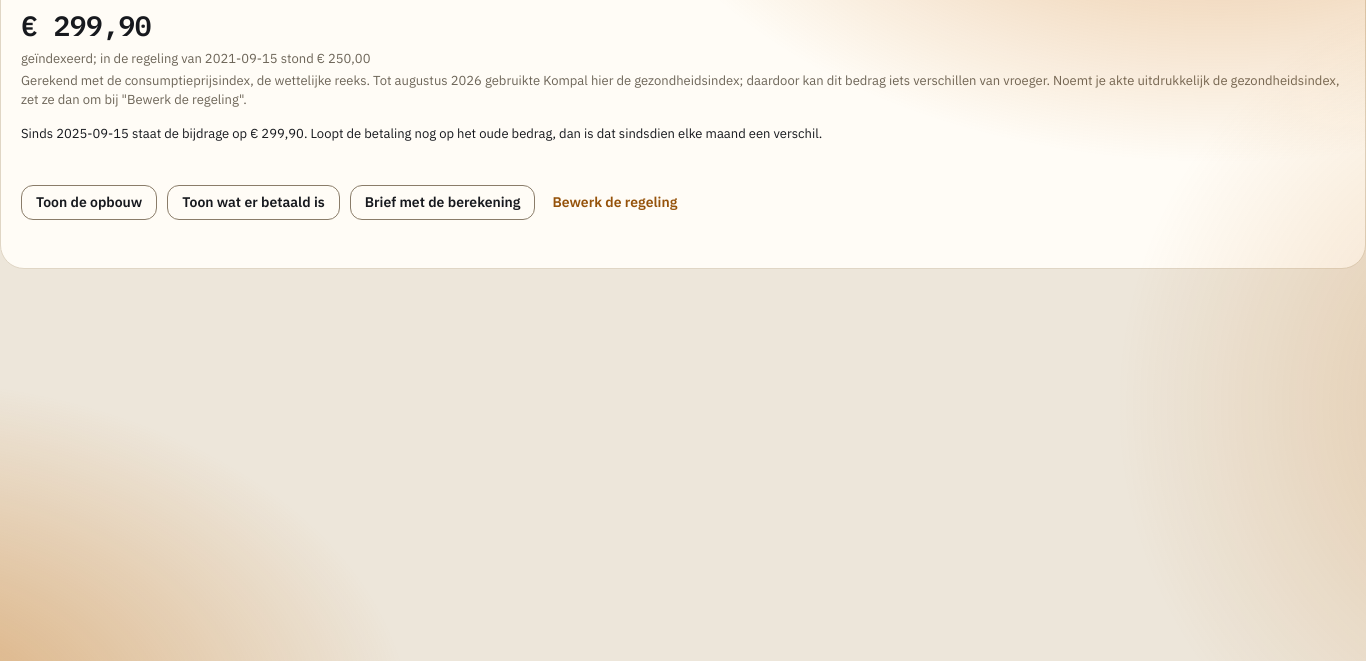
it: OnderhoudsbijdrageSectie — de opbouw › toont per verjaardag de berekening
This screenshot has width=1366, height=661.
What coordinates should you click on to do the following:
click the button "Toon de opbouw"
I would click on:
 (89, 202)
Its box is [21,185,157,220].
(page scrolled)
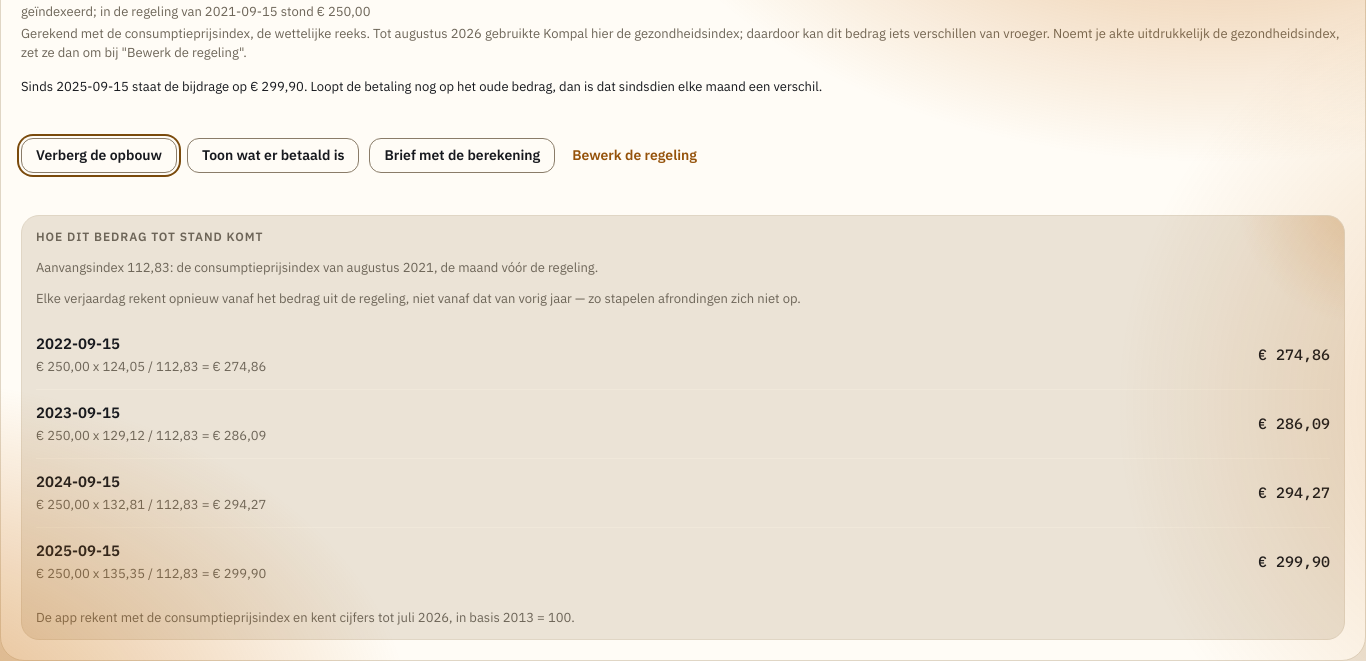
Expected: the element that starts with "Hoe dit bedrag tot stand komt" is shown
Expected: the text "2022-09-15" is shown, [36,334,120,353]
Expected: the element that starts with "Hoe dit bedrag tot stand komt" shows "124,05", [36,358,266,375]
